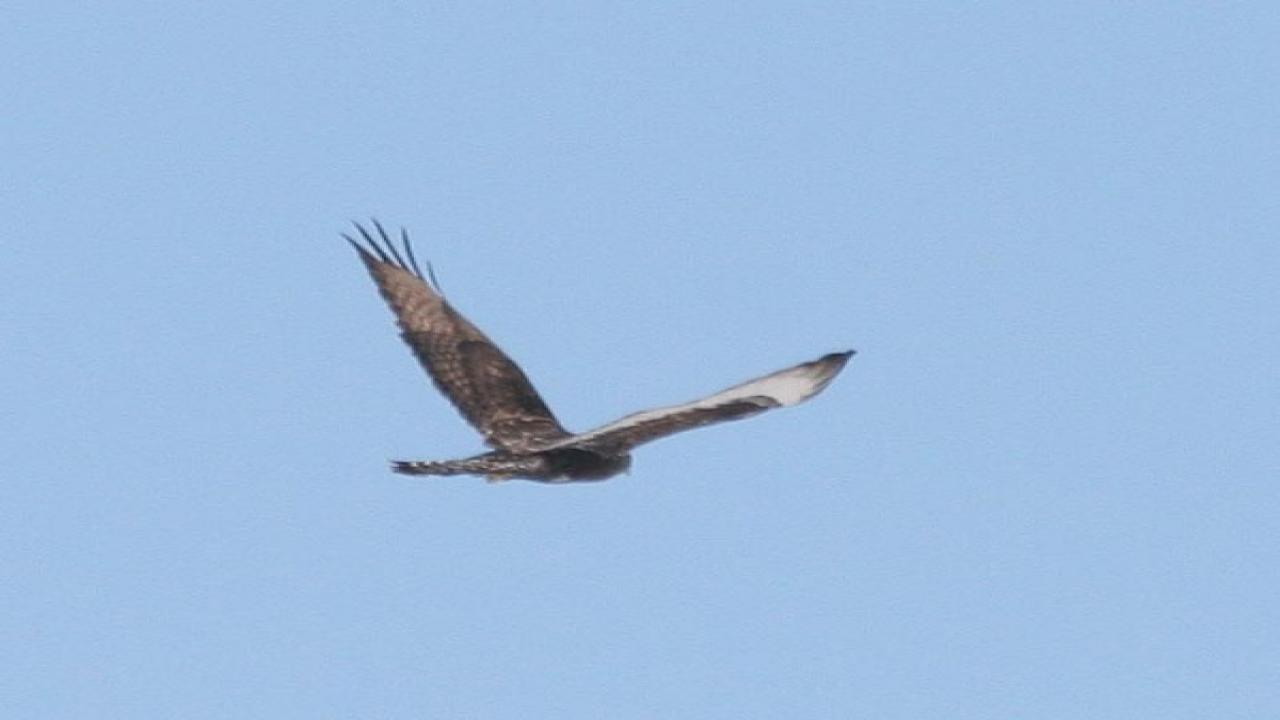Bird: (330, 211, 871, 489)
